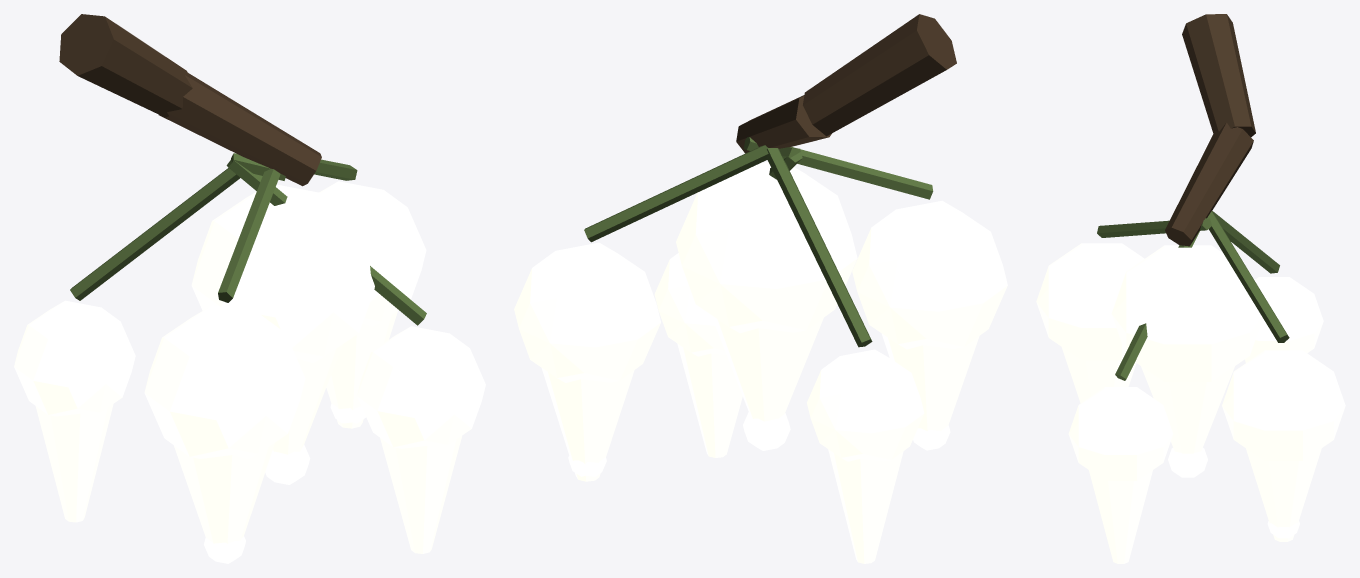
Rendered from LanternPods.glb.
3 renders of one model, left to right at view 1: azimuth 30°, elevation 25°; view 2: azimuth 150°, elevation 25°; view 3: azimuth 270°, elevation 25°, orthographic. The views are drawn at different scales.
Parts seen in each view (by area): view 1: Glow, Body; view 2: Glow, Body; view 3: Glow, Body.
Boxes of the visible parts, x1,y1,x2,y2 form: Glow: (14, 181, 485, 563); Body: (59, 14, 426, 325); Glow: (514, 162, 1007, 563); Body: (584, 14, 956, 347); Glow: (1036, 243, 1345, 563); Body: (1097, 14, 1289, 380).
Size of the model in its own units: 1.9 by 2.56 by 1.62.
